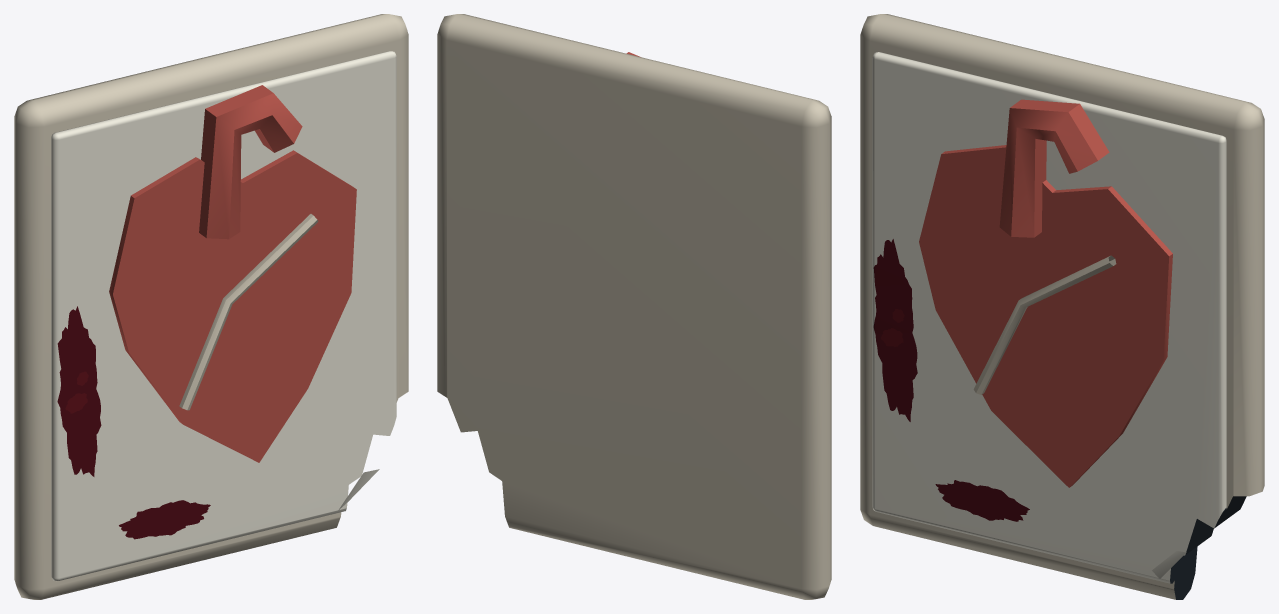
File: medical_poster_family.glb
3 renders of one model, left to right at view 1: azimuth 30°, elevation 25°; view 2: azimuth 150°, elevation 25°; view 3: azimuth 330°, elevation 25°, orthographic. The views are drawn at different scales.
Parts seen in each view (by area): view 1: medical_poster_family_Outbreak_Static; view 2: medical_poster_family_Outbreak_Static; view 3: medical_poster_family_Outbreak_Static.
Boxes of the visible parts, x1,y1,x2,y2 form: medical_poster_family_Outbreak_Static: (14,14,408,599); medical_poster_family_Outbreak_Static: (437,14,831,599); medical_poster_family_Outbreak_Static: (860,14,1264,599).
Bounding box in the file's own units: 0.72 × 0.88 × 0.141.
